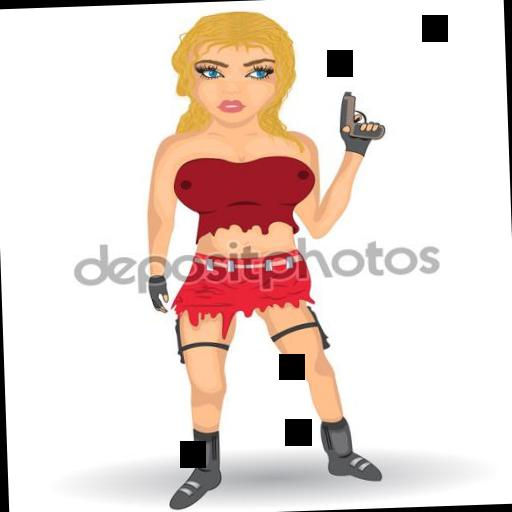Handgun: (335, 86, 384, 142)
